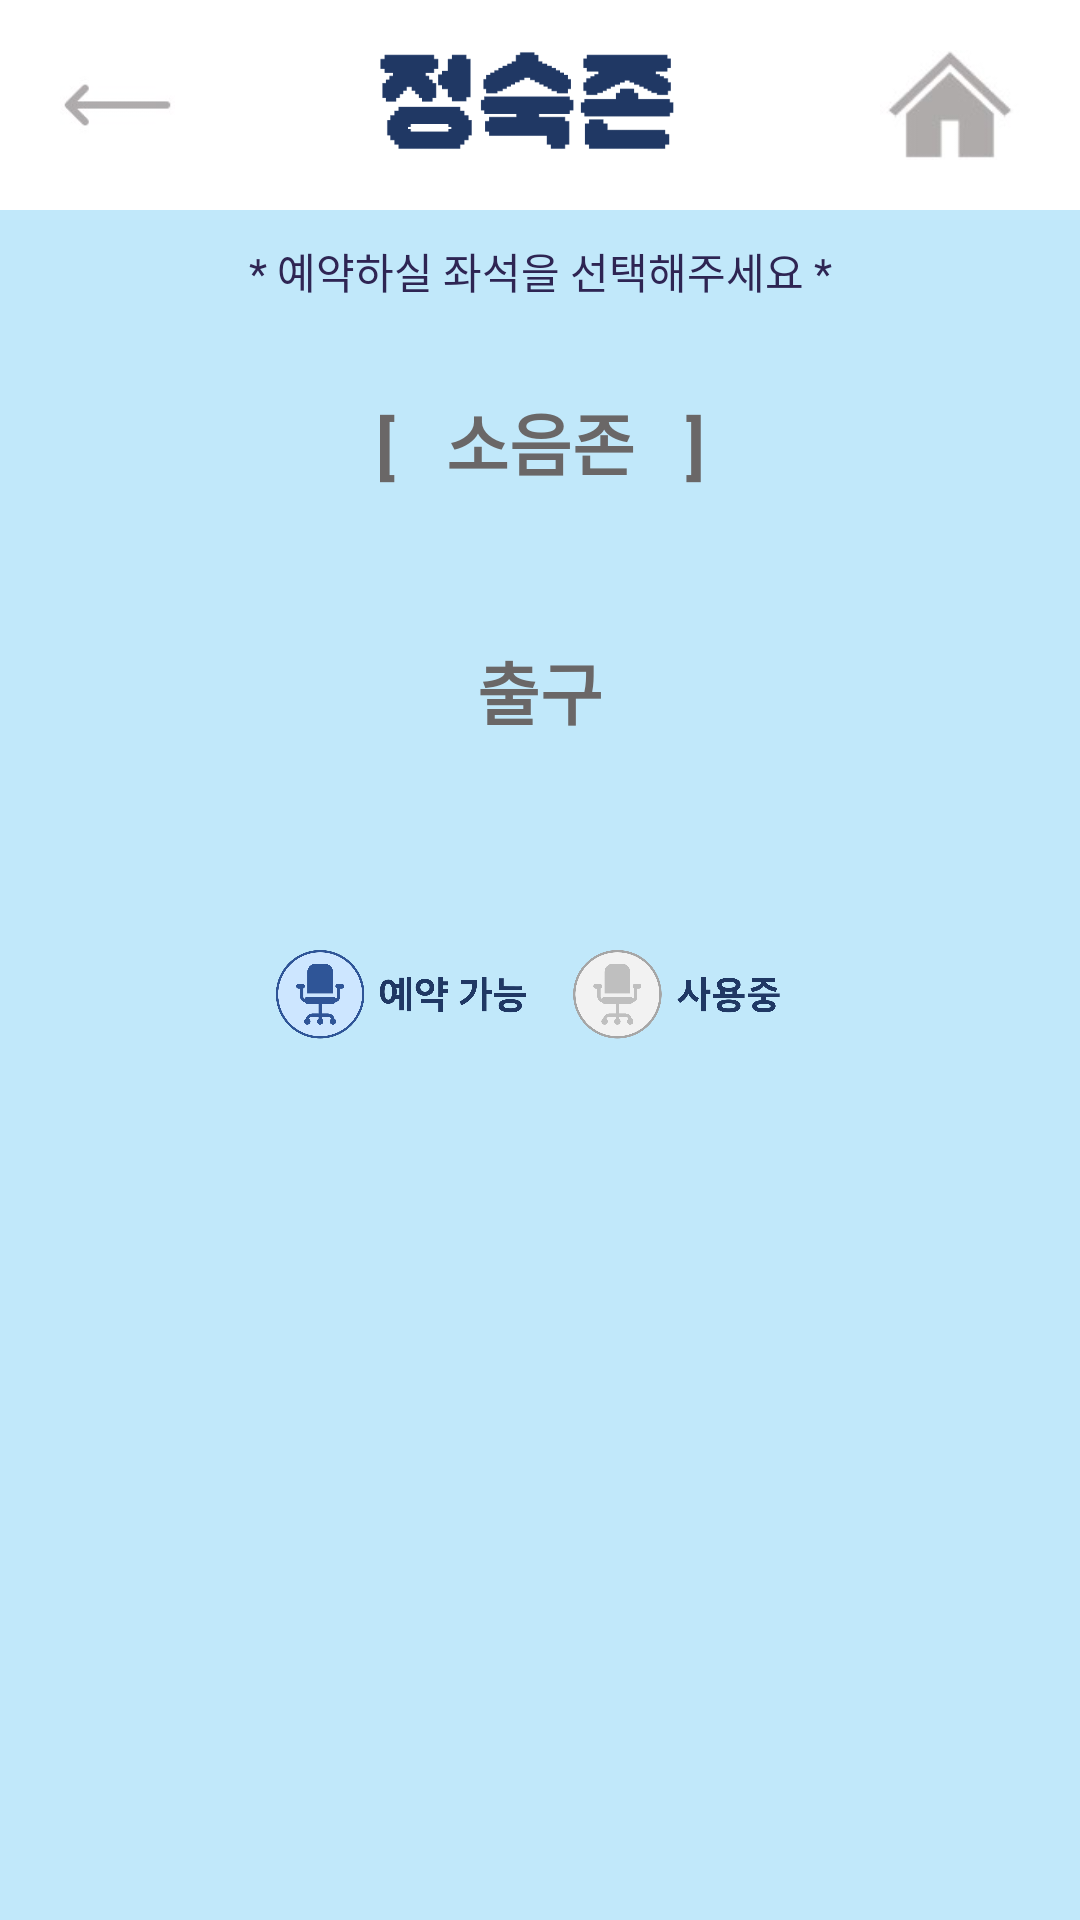

Named icons in this screenshot (1080*1920) and their centers, (x,y):
back: (117,105)
home: (950,104)
